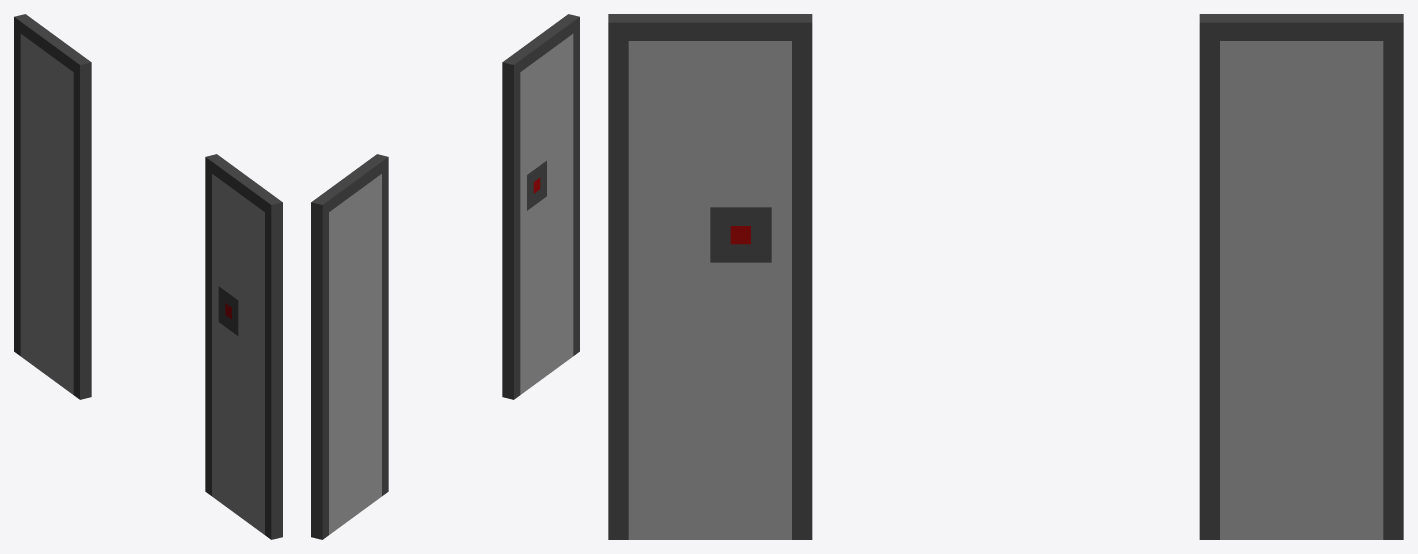
Rendered from Door_for_wall_open_Ver1.obj.
The picture shows the model from 3 angles, left to right: view 1: azimuth 30°, elevation 25°; view 2: azimuth 150°, elevation 25°; view 3: azimuth 270°, elevation 25°; orthographic projection. The views are drawn at different scales.
Size of the model in its own units: 0.1 by 2.8 by 3.9.
1 material, 1 textured.
